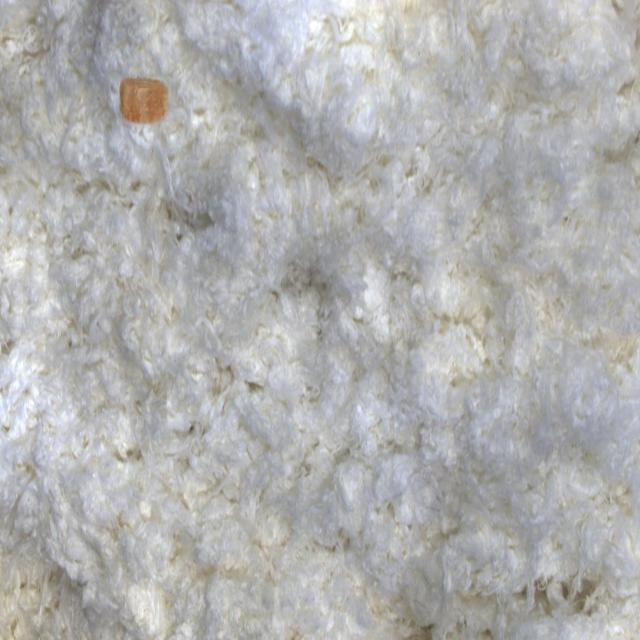dust: (83, 30, 200, 157)
